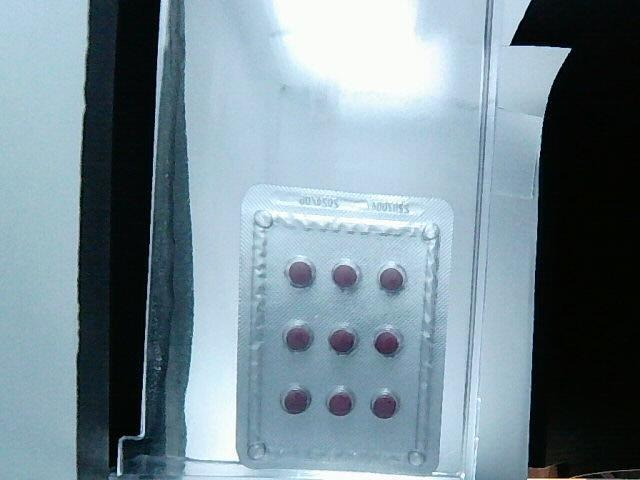Light Front: (238, 185, 453, 473)
Pill Front: (326, 321, 358, 359), (278, 386, 315, 415), (365, 389, 399, 418), (323, 391, 356, 420), (377, 266, 408, 296), (285, 322, 314, 350), (332, 264, 361, 290), (373, 327, 401, 353), (287, 260, 312, 284)
